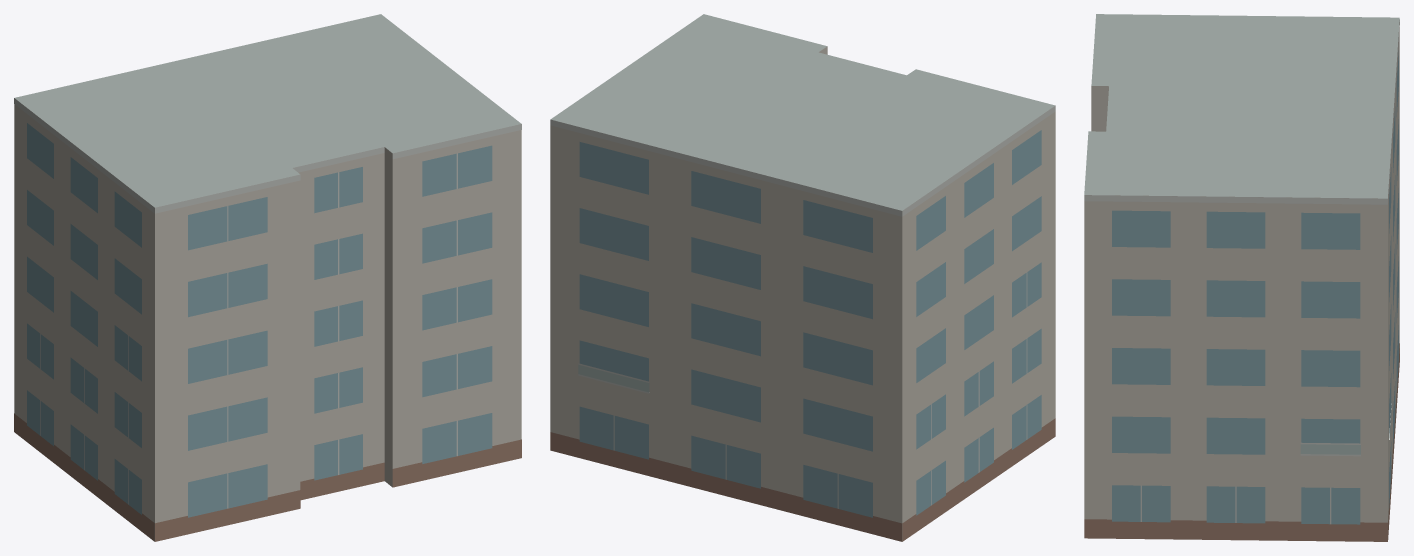
File: survey-upis-32719126.glb
3 renders of one model, left to right at view 1: azimuth 30°, elevation 25°; view 2: azimuth 150°, elevation 25°; view 3: azimuth 270°, elevation 25°, orthographic. The views are drawn at different scales.
Visible parts, largest first — view 1: survey-upis-32719126.tmp; view 2: survey-upis-32719126.tmp; view 3: survey-upis-32719126.tmp.
Part boxes in pixels (x1,y1,x2,y2): survey-upis-32719126.tmp: [14, 14, 521, 541]; survey-upis-32719126.tmp: [550, 14, 1055, 541]; survey-upis-32719126.tmp: [1084, 14, 1399, 541].
Bounding box in the file's own units: 15.81 × 13.7 × 11.42.
